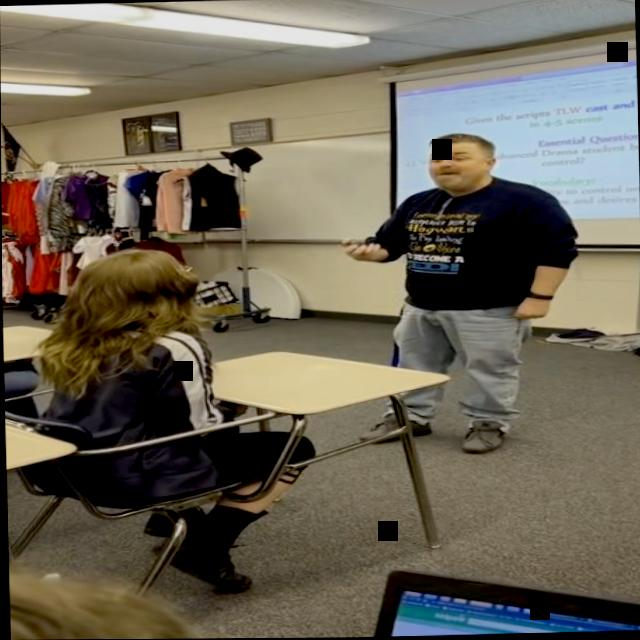NO-Mask: (424, 134, 498, 194)
